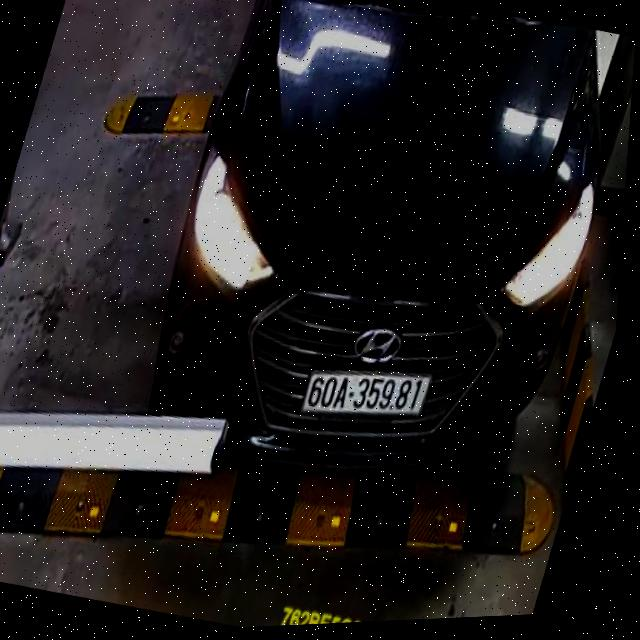car: (106, 0, 640, 538)
plate: (297, 353, 429, 435)
